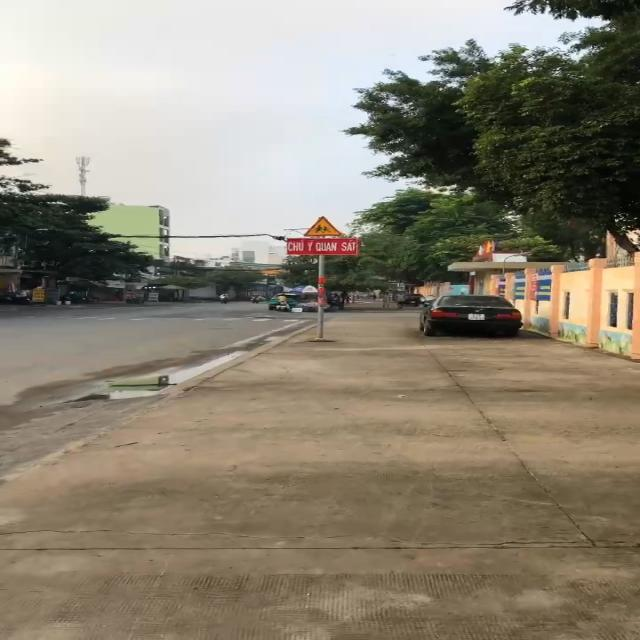Bien bao tre em: (300, 215, 348, 239)
